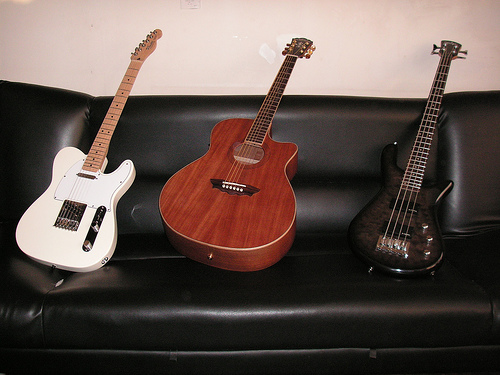acoustic guitar: (157, 36, 317, 271)
